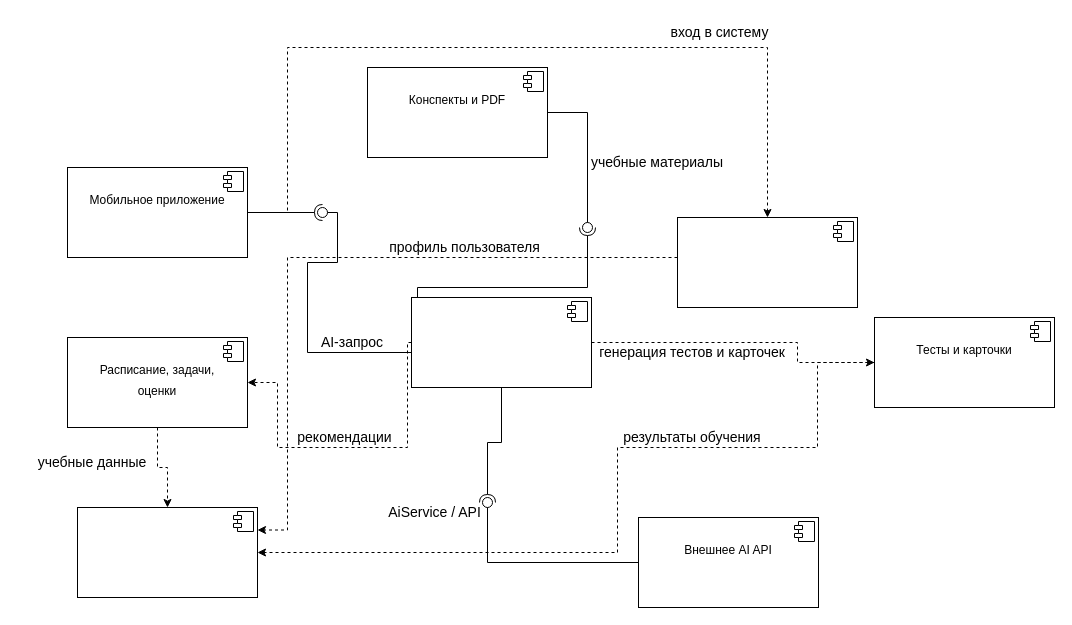
The diagram is 1072 pixels wide and 625 high, and some of its shapes have lost their labels. The shapes that lost their labels are listed below. From the top down, each one's centre as x and y in pixels, then its label:
point 767,262: Авторизация и профиль
point 501,342: AI-модуль
point 167,552: Локальное хранилище
